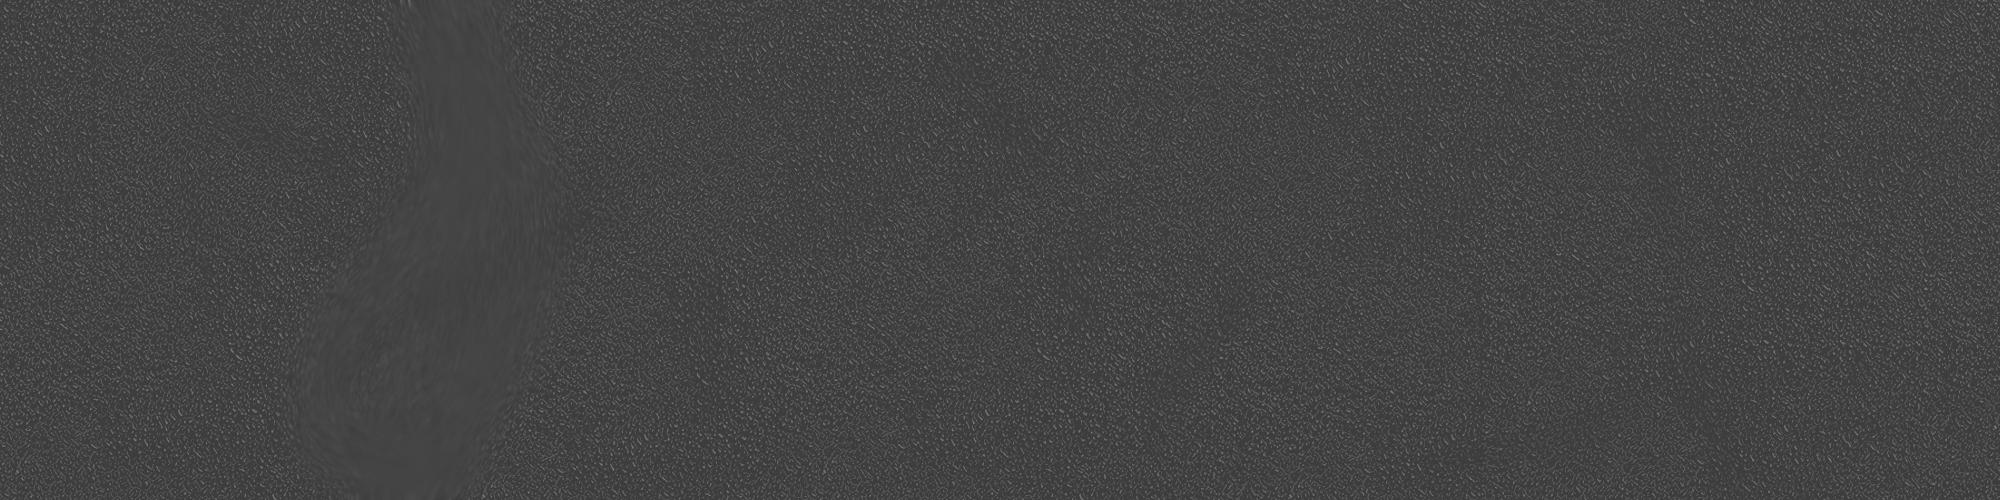Flow_Lines: (277, 6, 555, 497)
